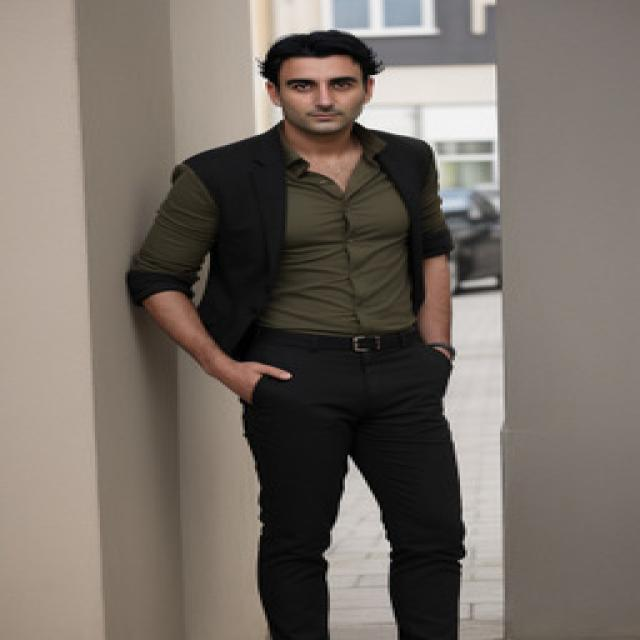Ai human 2: (121, 23, 514, 640)
